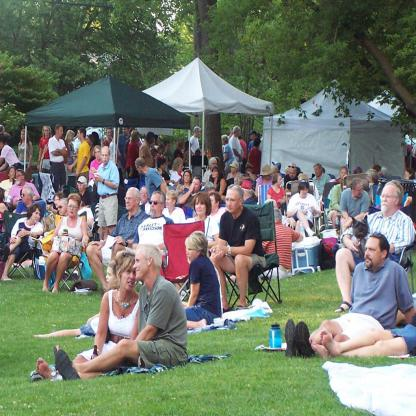face: (365, 238, 382, 268), (382, 185, 397, 213), (122, 264, 137, 291), (134, 251, 148, 279), (226, 192, 240, 213), (150, 195, 162, 217), (106, 267, 117, 288), (126, 192, 137, 211), (68, 200, 79, 218), (196, 199, 207, 216), (187, 247, 198, 263), (33, 208, 42, 224), (209, 196, 217, 212), (355, 185, 364, 198), (102, 152, 111, 165), (59, 202, 67, 216), (22, 190, 29, 205), (193, 180, 201, 193), (166, 196, 174, 208), (142, 189, 149, 202), (54, 197, 61, 209), (301, 188, 309, 198), (341, 169, 348, 179), (315, 166, 321, 177), (17, 172, 23, 183), (290, 170, 297, 179), (212, 169, 219, 178), (185, 173, 191, 183), (96, 149, 101, 161), (243, 179, 249, 188), (10, 170, 16, 179), (236, 129, 242, 138), (59, 128, 64, 138), (79, 183, 85, 191), (278, 177, 283, 186), (212, 161, 217, 170), (179, 164, 184, 173), (108, 130, 113, 139), (136, 165, 141, 174), (404, 172, 410, 179), (272, 170, 278, 177), (266, 174, 272, 181), (21, 132, 26, 140), (378, 169, 382, 178), (78, 131, 82, 140), (167, 145, 172, 152), (163, 163, 168, 170), (123, 129, 128, 136), (70, 135, 75, 142), (45, 129, 50, 136), (152, 136, 156, 144), (87, 137, 91, 145), (247, 169, 252, 175), (197, 131, 202, 137), (161, 149, 166, 155), (137, 135, 141, 142), (231, 167, 235, 173), (251, 134, 255, 140), (222, 139, 225, 146)
